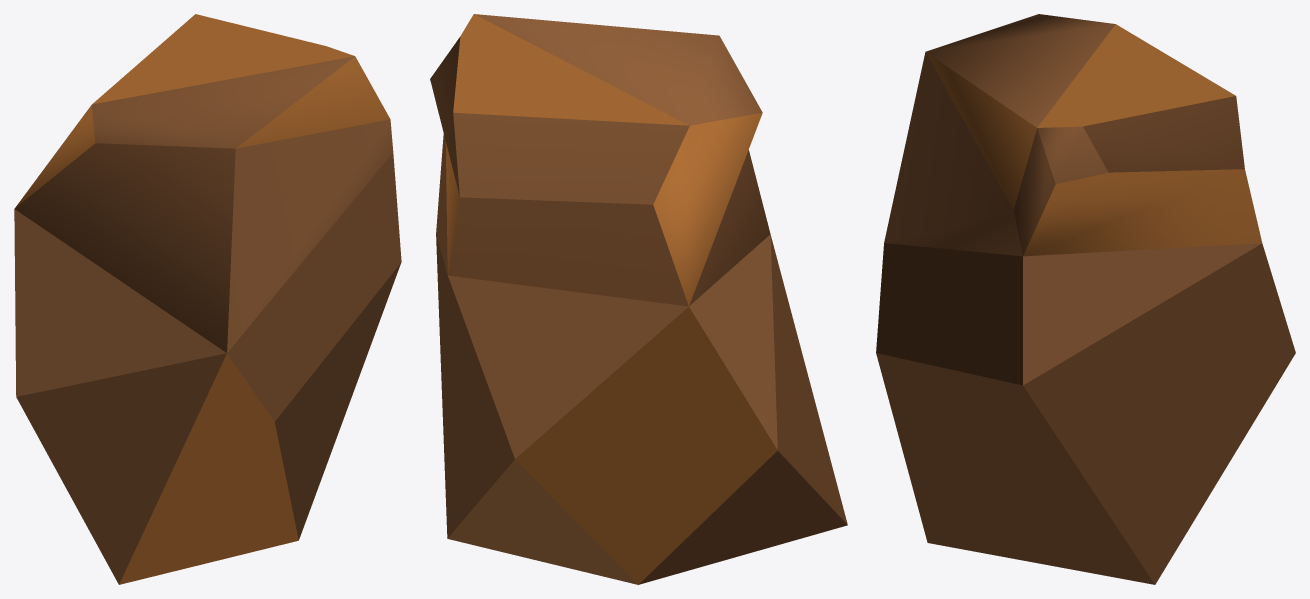
File: stump.fbx
The picture shows the model from 3 angles, left to right: view 1: azimuth 30°, elevation 25°; view 2: azimuth 150°, elevation 25°; view 3: azimuth 270°, elevation 25°; orthographic projection. The views are drawn at different scales.
Parts seen in each view (by area): view 1: pPlatonic3; view 2: pPlatonic3; view 3: pPlatonic3.
Part boxes in pixels (x1,y1,x2,y2): pPlatonic3: (14,14,401,584); pPlatonic3: (430,14,847,584); pPlatonic3: (876,14,1295,584).
Size of the model in its own units: 38.59 by 45.18 by 36.36.
